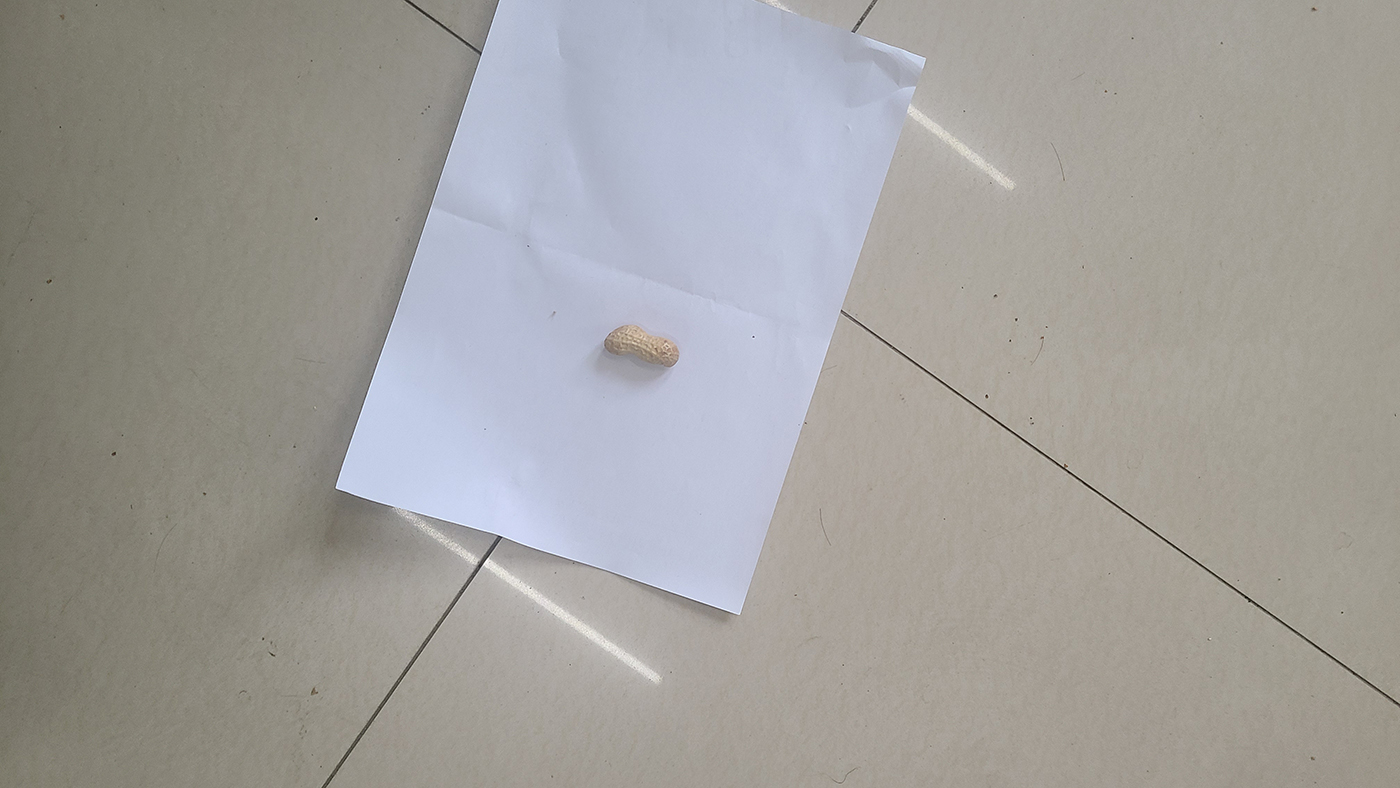h: (604, 324, 680, 367)
